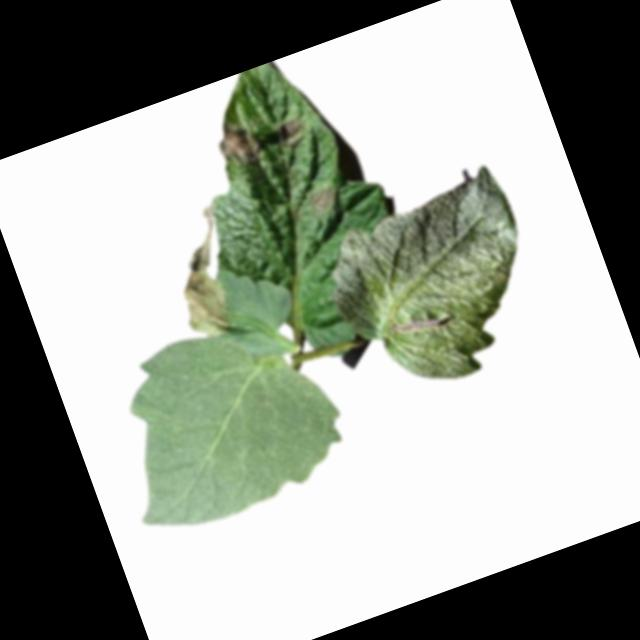Late_blight: (157, 220, 243, 343), (214, 116, 263, 175), (300, 183, 340, 219), (274, 116, 307, 147)
